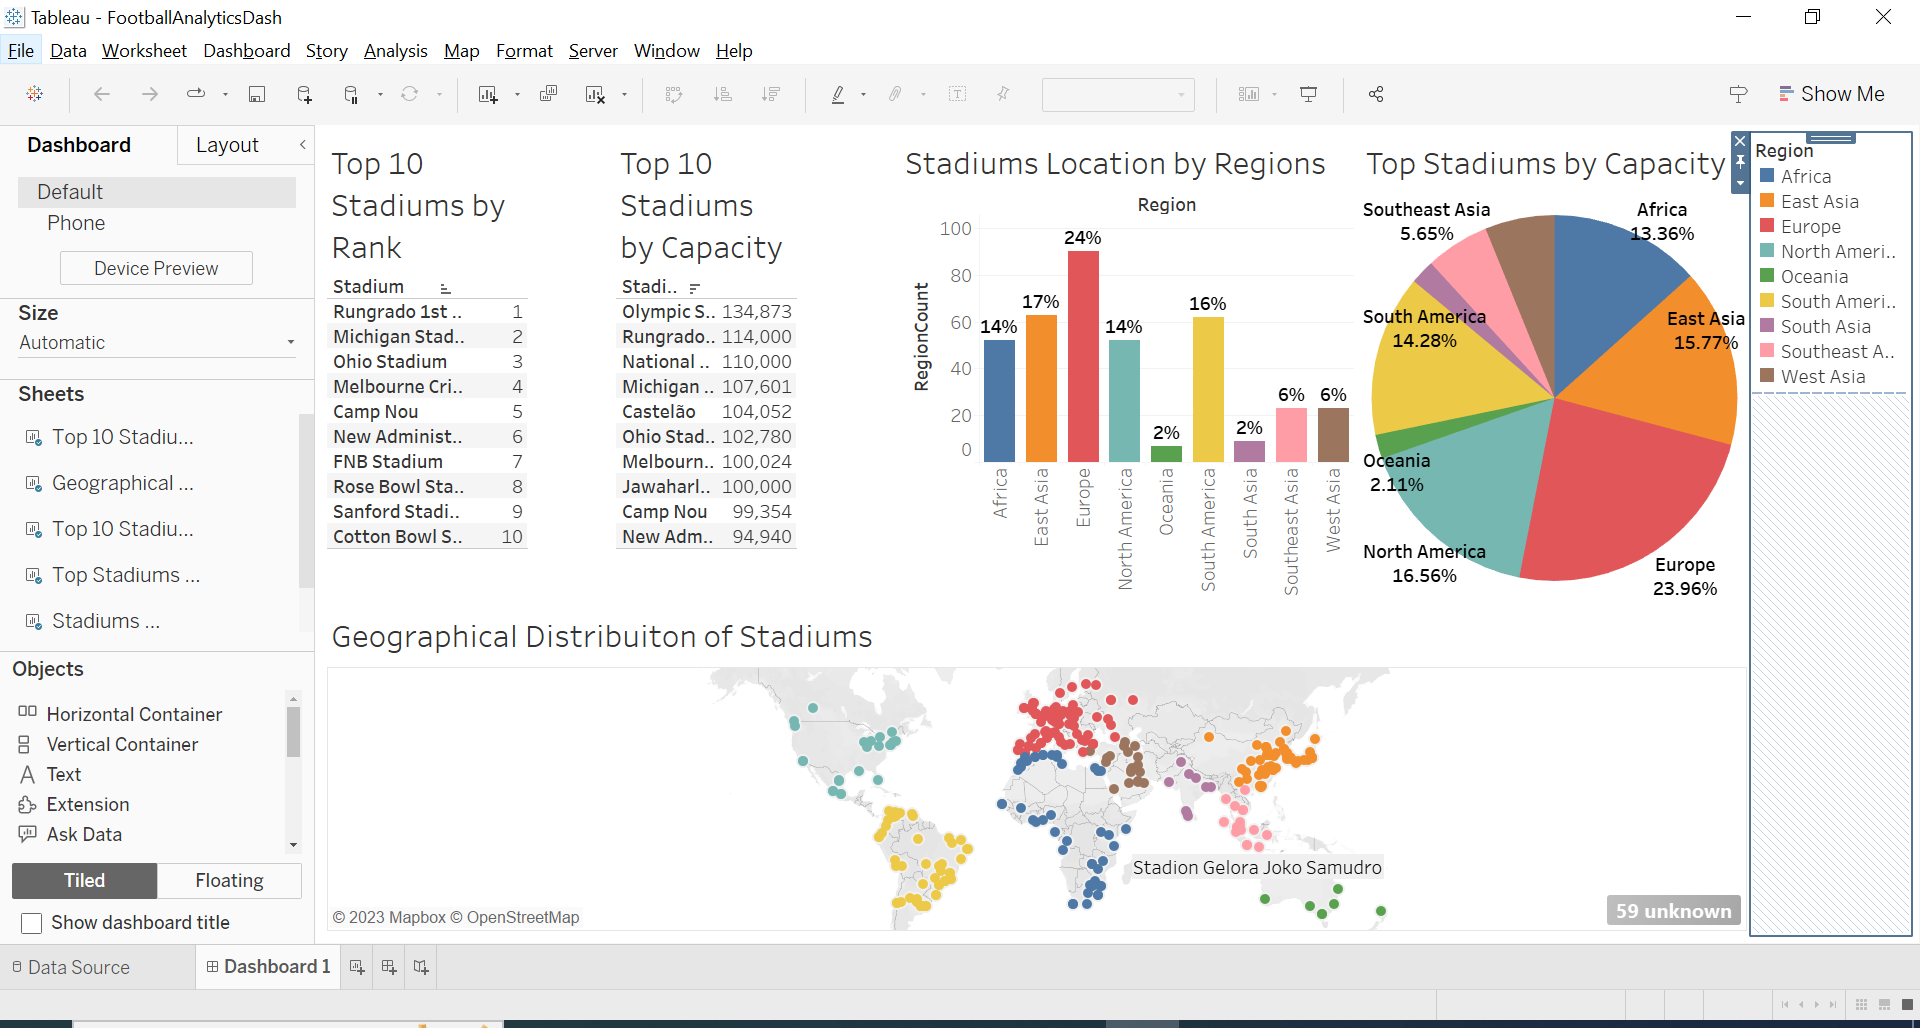

The dashboard page shown, as its layout file describes it:
{"tool":"tableau","page":{"name":"Dashboard 1","canvas":[1000,1000],"units":"permille","ordinal":0},"visuals":[{"type":"worksheet","title":"Top 10 Stadiums by Rank","mark":"Automatic","rows":["stadium"],"box":[5,9.8,180.2,578.2]},{"type":"worksheet","title":"Top 10 Stadiums by Capacity","mark":"Automatic","rows":["stadium"],"box":[185.2,9.8,177.7,578.2]},{"type":"worksheet","title":"Stadiums Location by Regions","mark":"Automatic","rows":["Calculation_532550686345441280"],"cols":["region"],"box":[362.8,9.8,287.4,578.2]},{"type":"worksheet","title":"Top Stadiums by Capacity","mark":"Pie","box":[650.2,9.8,245,578.2]},{"type":"legend","title":"Top Stadiums by Capacity","param":"[federated.1gdhzoi1d20w3y1baygue17ypa0o].[none:region:nk]","box":[895.3,9.8,99.8,316.6]},{"type":"worksheet","title":"Geographical Distribuiton of Stadiums","mark":"Automatic","box":[5,588,890.3,402.2]}]}

Visuals, with their boxes on the dashboard's canvas, which has no fixed pixel size, in thousandths of its width and height (x1, y1, x2, y2). These are canvas units, not pixel positions in the 1920x1028 screenshot, which may show the page scaled, cropped or inside an application window:
"Top 10 Stadiums by Rank" worksheet: x1=5, y1=10, x2=185, y2=588
"Top 10 Stadiums by Capacity" worksheet: x1=185, y1=10, x2=363, y2=588
"Stadiums Location by Regions" worksheet: x1=363, y1=10, x2=650, y2=588
"Top Stadiums by Capacity" worksheet (Pie marks): x1=650, y1=10, x2=895, y2=588
"Top Stadiums by Capacity" legend: x1=895, y1=10, x2=995, y2=326
"Geographical Distribuiton of Stadiums" worksheet: x1=5, y1=588, x2=895, y2=990
